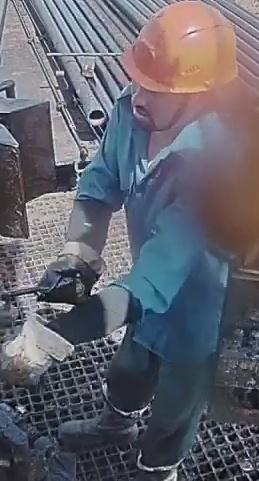gloves: (0, 313, 74, 388), (36, 252, 99, 304)
helmet: (120, 0, 238, 94)
vest: (101, 89, 247, 368)
